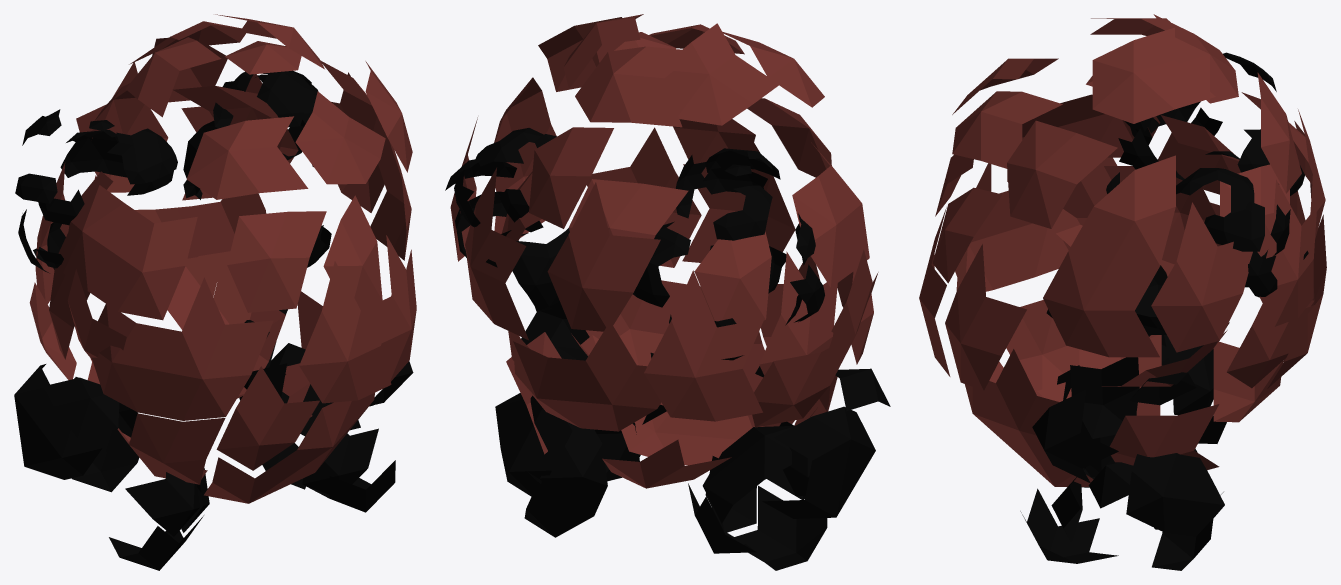
The model's file is explode.f0002.glb.
The picture shows the model from 3 angles, left to right: view 1: azimuth 30°, elevation 25°; view 2: azimuth 150°, elevation 25°; view 3: azimuth 270°, elevation 25°; orthographic projection. The views are drawn at different scales.
Visible parts, largest first — view 1: Body.001; view 2: Body.001; view 3: Body.001.
Boxes of the visible parts, <box> form: Body.001: <box>14,14,416,570</box>; Body.001: <box>445,14,890,570</box>; Body.001: <box>919,14,1326,570</box>.
Bounding box in the file's own units: 2.63 × 3.42 × 2.48.
Materials: 1 (1 with a texture image).
